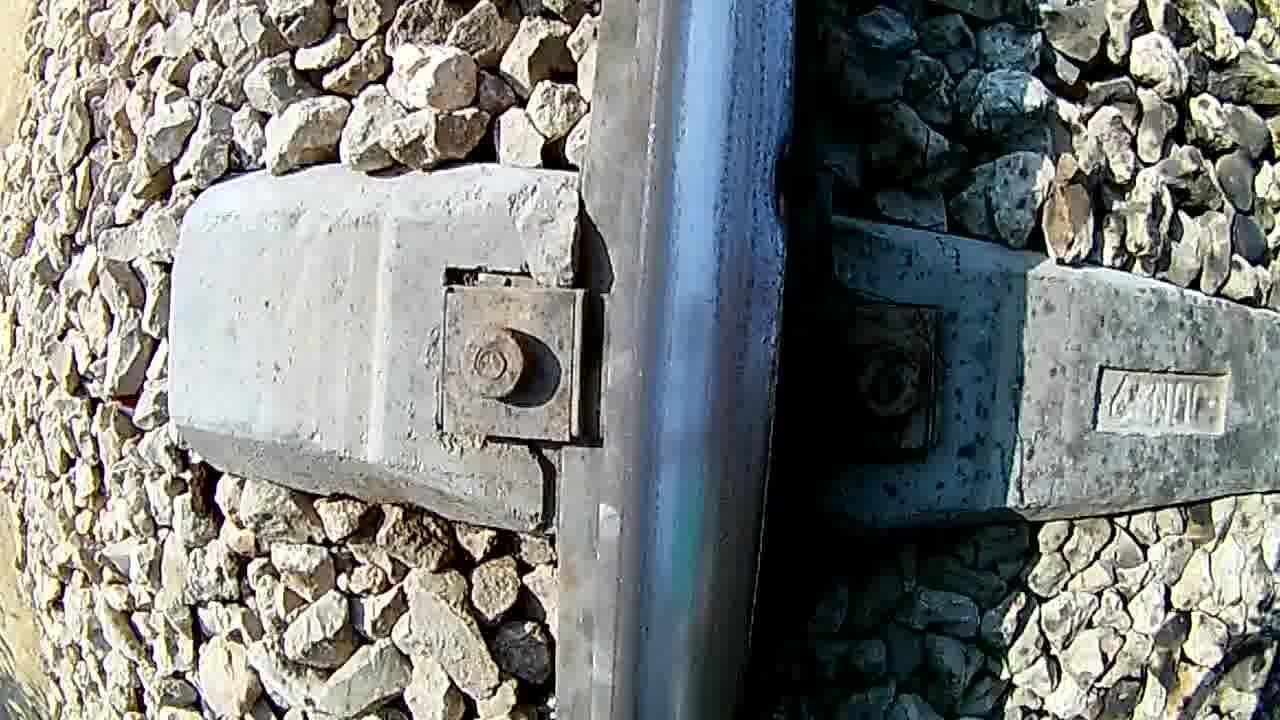crack: (587, 0, 785, 716)
